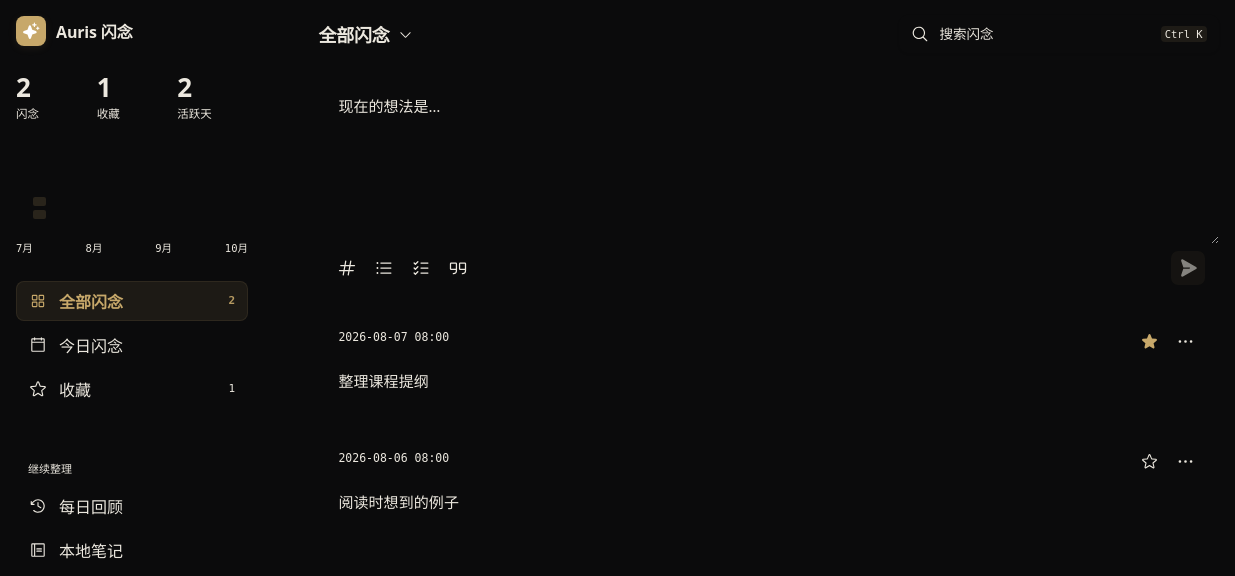
Test case: FlashPageClient › deletes a flash from its overflow menu
This screenshot has width=1235, height=576.
Expected: the text "阅读时想到的例子" is shown, [338,492,459,512]
Click the button named "更多操作 阅读时想到的例子" at (1186, 462), box [1169,444,1203,478]
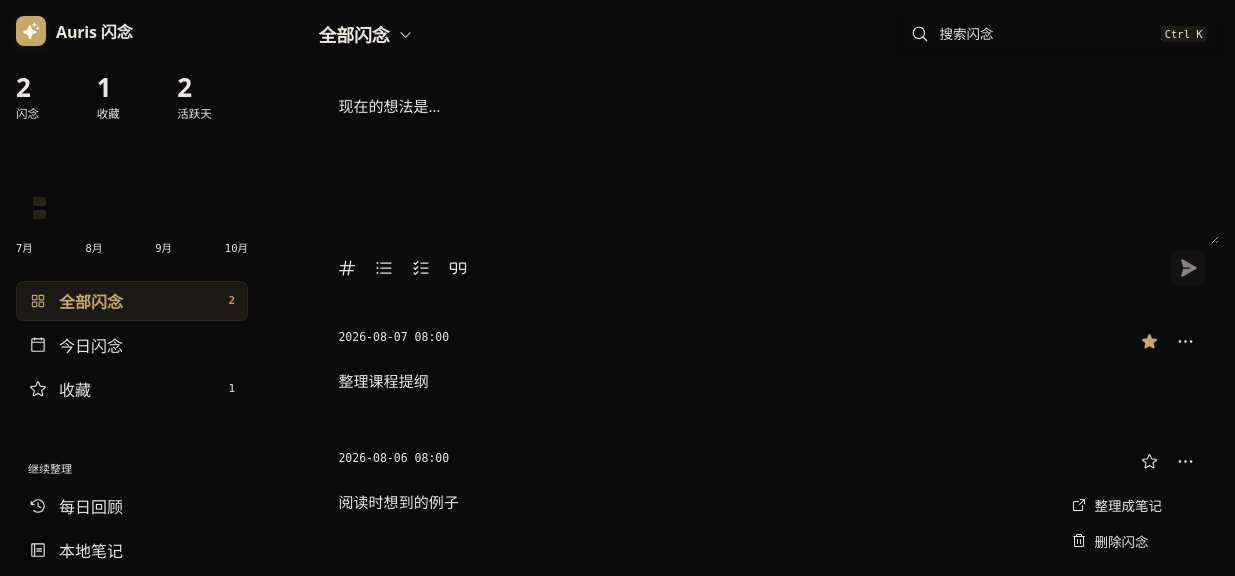
Click the menu item "删除闪念" at (1129, 540), box [1061,522,1197,558]
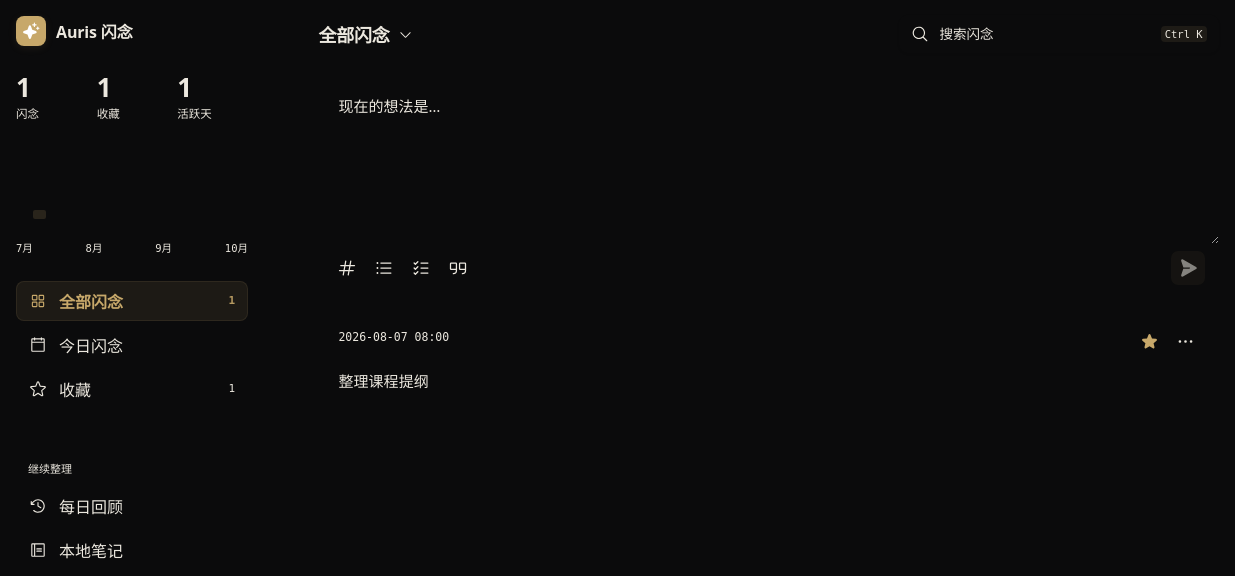
Expected: the text "阅读时想到的例子" is gone
